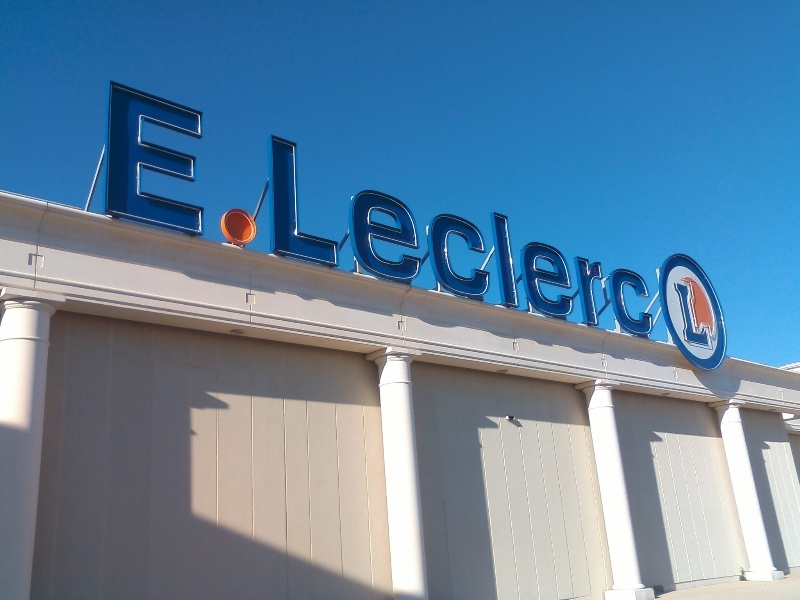text: (641, 79, 657, 341), (113, 79, 128, 341), (129, 79, 144, 341), (145, 79, 160, 341), (161, 79, 176, 341), (177, 79, 192, 341), (193, 79, 208, 341), (209, 79, 224, 341), (225, 79, 240, 341), (241, 79, 256, 341), (257, 79, 272, 341), (273, 79, 288, 341), (289, 79, 304, 341), (305, 79, 320, 341), (321, 79, 336, 341), (337, 79, 352, 341), (353, 79, 368, 341), (369, 79, 384, 341), (385, 79, 400, 341), (401, 79, 416, 341), (417, 79, 432, 341), (433, 79, 448, 341), (449, 79, 464, 341), (465, 79, 480, 341), (481, 79, 496, 341), (497, 79, 512, 341), (513, 79, 528, 341), (529, 79, 544, 341), (545, 79, 560, 341), (561, 79, 576, 341), (577, 79, 592, 341), (593, 79, 608, 341), (609, 79, 624, 341), (625, 79, 640, 341), (108, 79, 112, 341), (673, 281, 688, 349), (689, 281, 704, 349), (705, 281, 713, 349)
